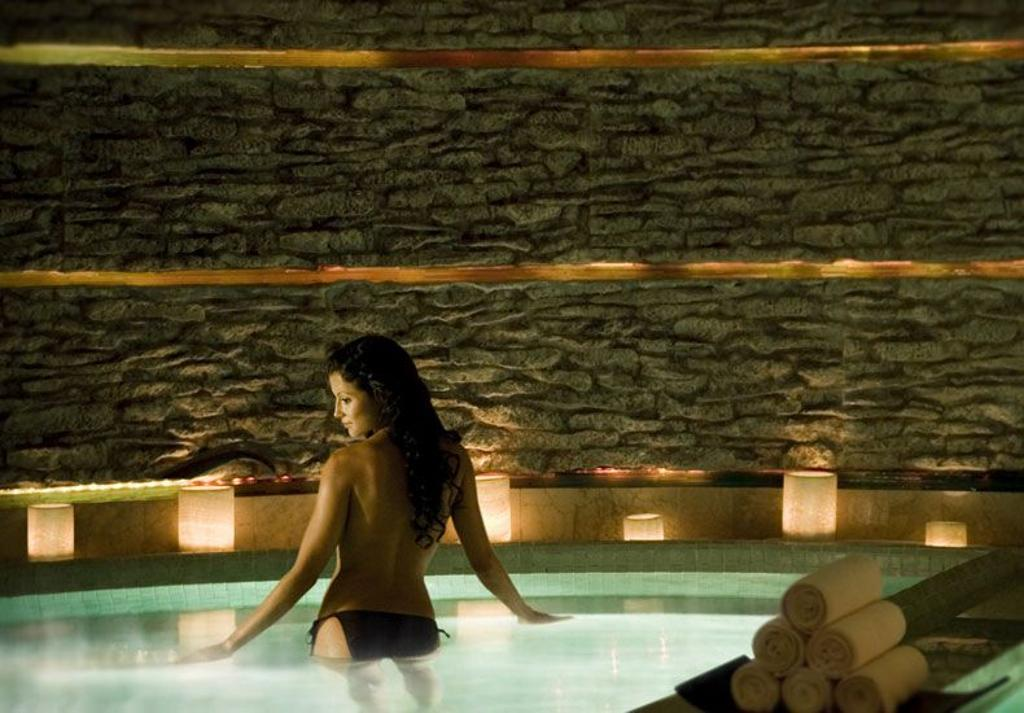face: (324, 374, 376, 440)
